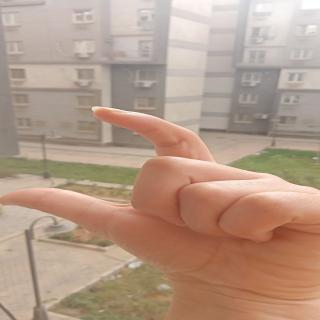DELL: (2, 99, 318, 265)
